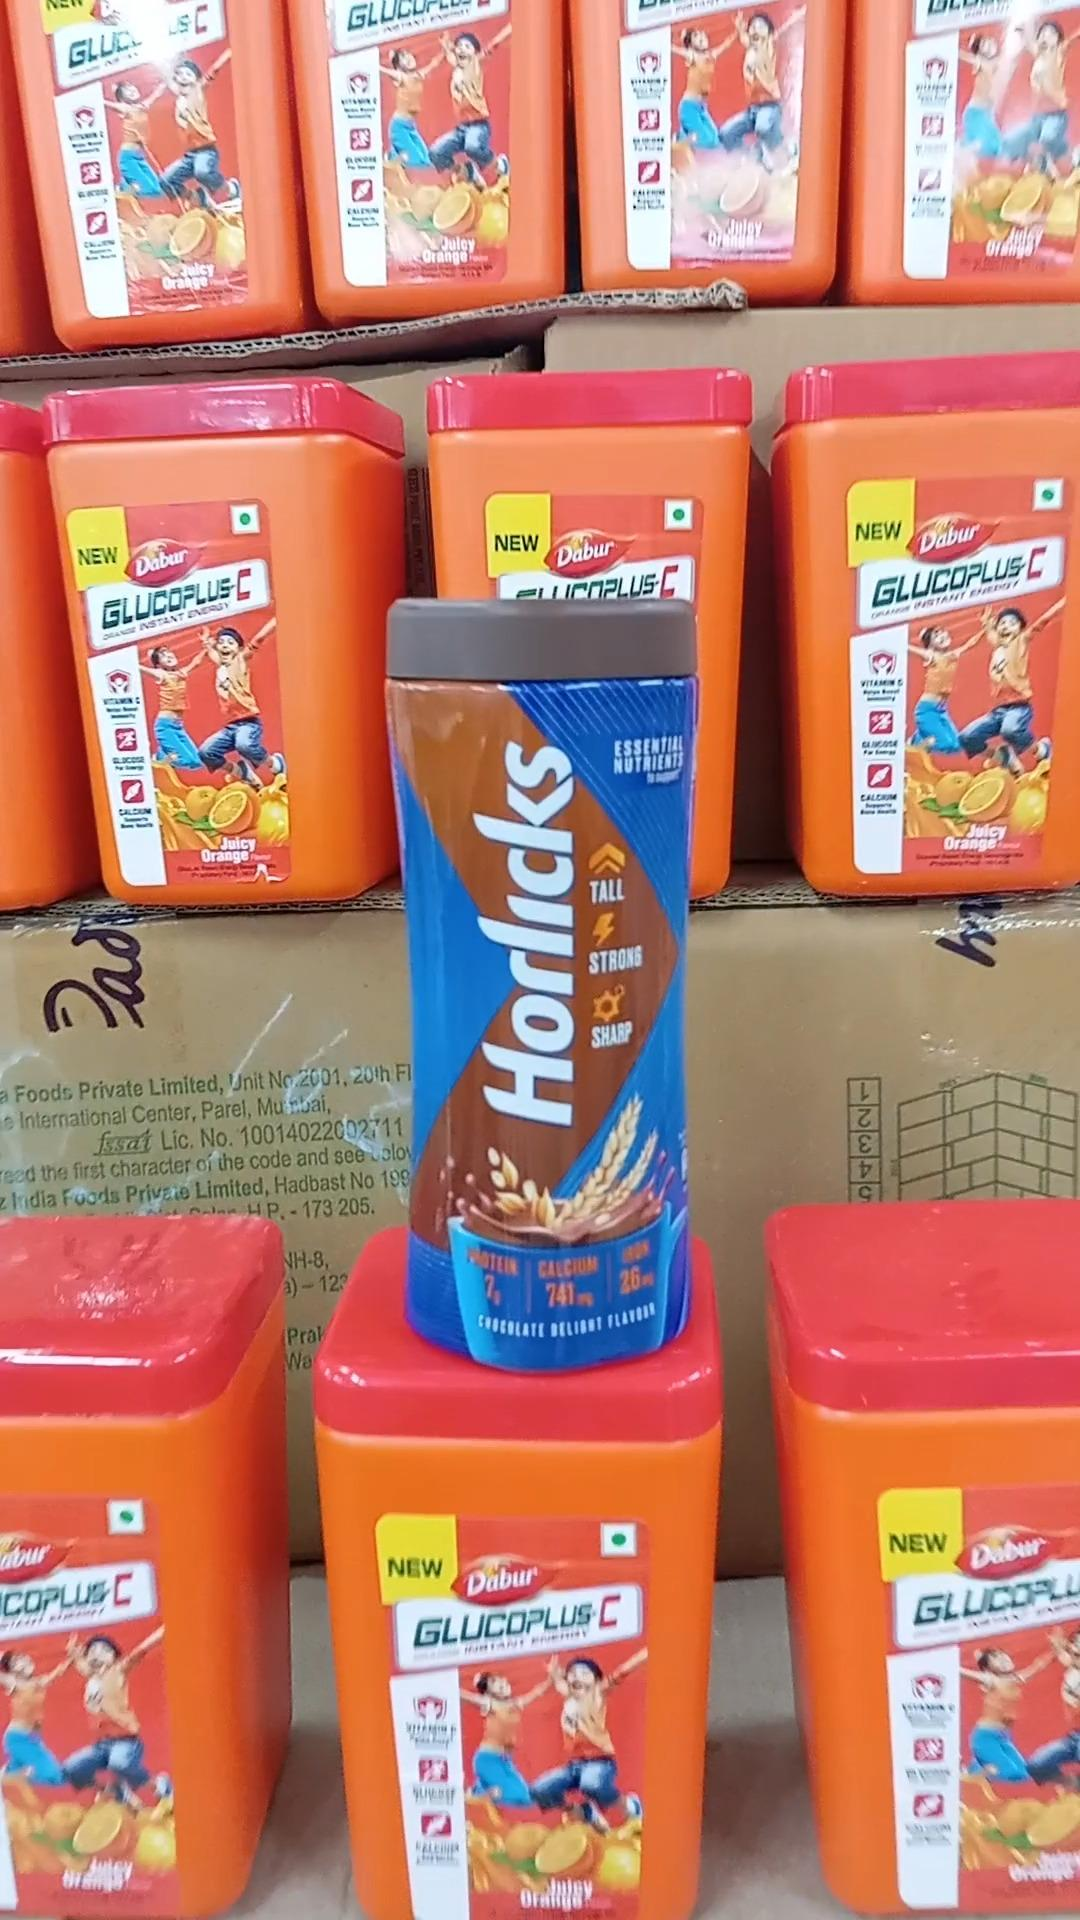HORLICK_CHOCOLATE_500_G_JAR: (388, 592, 695, 1361)
